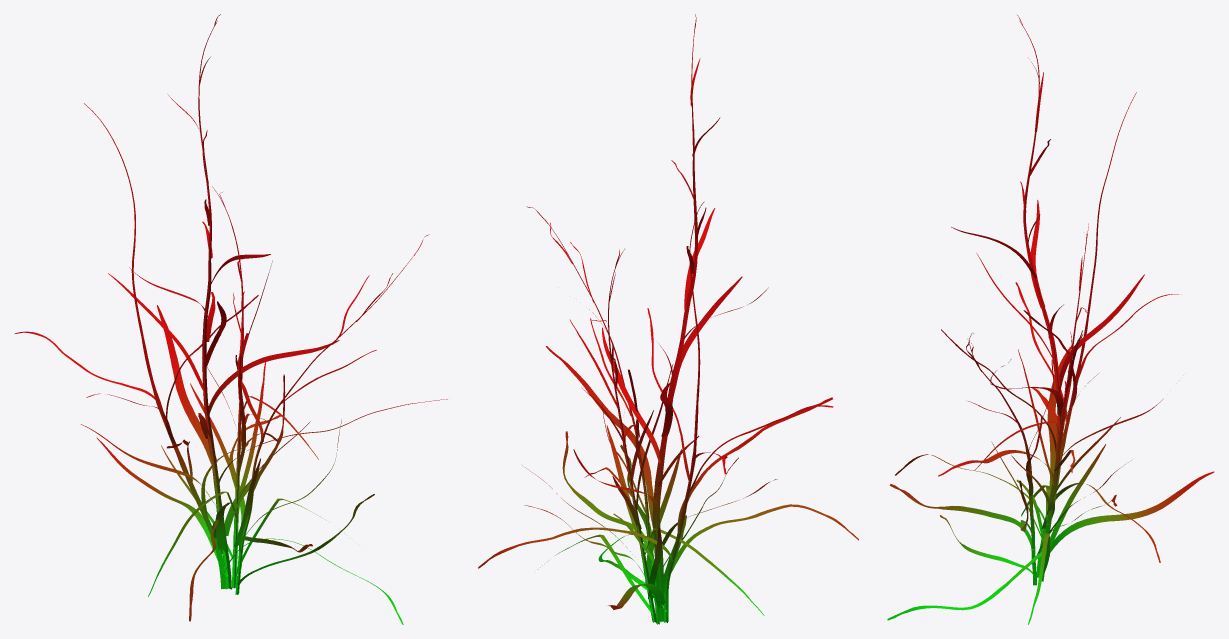
File: tefocd1r_Var3_LOD0.fbx
3 renders of one model, left to right at view 1: azimuth 30°, elevation 25°; view 2: azimuth 150°, elevation 25°; view 3: azimuth 270°, elevation 25°, orthographic. The views are drawn at different scales.
Parts seen in each view (by area): view 1: _809b_Var3_LOD0; view 2: _809b_Var3_LOD0; view 3: _809b_Var3_LOD0.
Part boxes in pixels (<box>): _809b_Var3_LOD0: <box>15,14,447,624</box>; _809b_Var3_LOD0: <box>478,14,858,624</box>; _809b_Var3_LOD0: <box>887,15,1214,624</box>.
Size of the model in its own units: 43.49 by 76.7 by 40.68.
